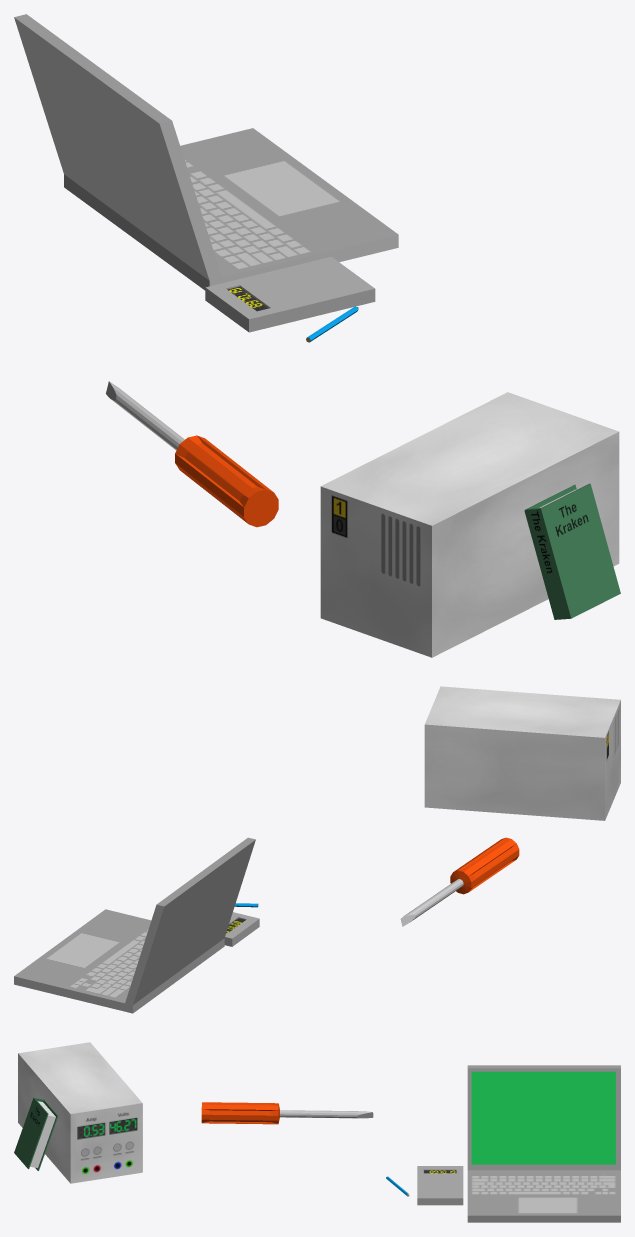
Rendered from decorDeskDecoration.dae.
3 views of the same model, one above another, from view 1: azimuth 30°, elevation 25°; view 2: azimuth 150°, elevation 25°; view 3: azimuth 270°, elevation 25° (orthographic). The views are drawn at different scales.
Visible parts, largest first — view 1: Laptop; view 2: Laptop; view 3: Laptop.
Part boxes in pixels (left/top/right/bottom): Laptop: left=14, top=14, right=620, bottom=657; Laptop: left=14, top=686, right=620, bottom=1013; Laptop: left=14, top=1042, right=620, bottom=1222.
Bounding box in the file's own units: 0.3459 × 0.7912 × 0.1398.
Materials: 1 (1 with a texture image).
